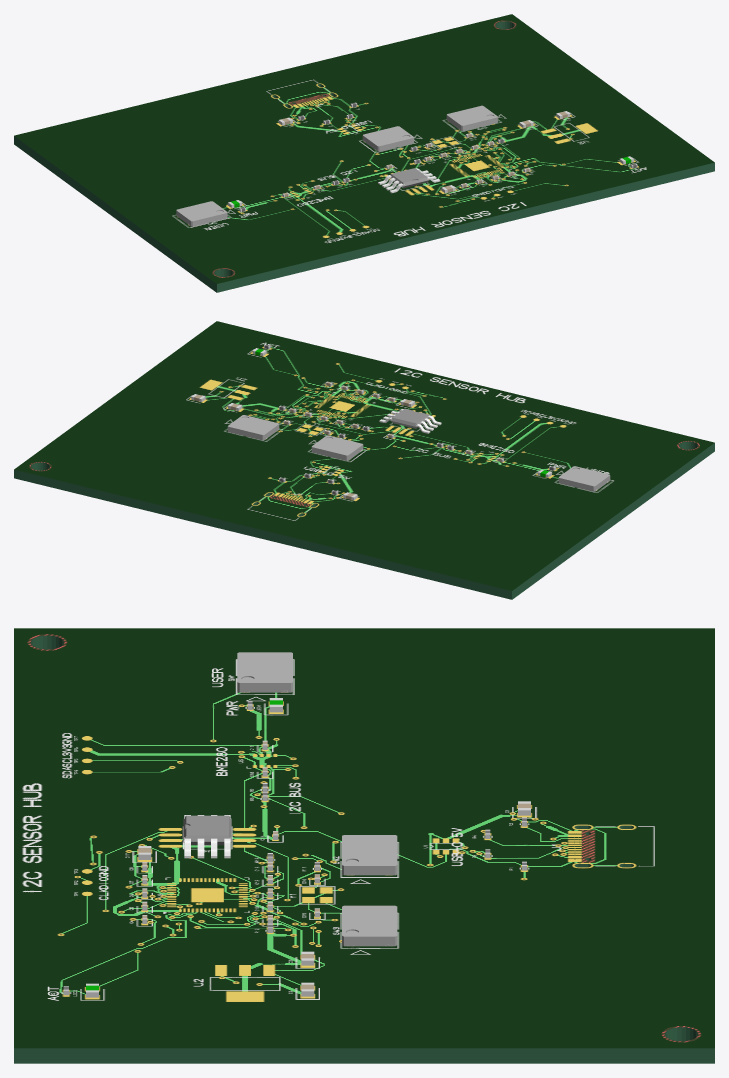
The picture shows the model from 3 angles, top to bottom: view 1: azimuth 30°, elevation 25°; view 2: azimuth 150°, elevation 25°; view 3: azimuth 270°, elevation 25°; orthographic projection. The views are drawn at different scales.
Parts seen in each view (by area): view 1: Box0, SW2, SW3, SW1, U4; view 2: Box0, SW2, SW1, SW3, U4; view 3: Box0, SW3, SW2, SW1, U4.
Boxes of the visible parts, x1,y1,x2,y2 form: Box0: (14,14,714,292); SW2: (362,126,414,151); SW3: (446,105,498,131); SW1: (176,201,227,226); U4: (378,168,440,193); Box0: (14,321,714,599); SW2: (311,435,363,460); SW1: (558,466,610,491); SW3: (227,415,279,440); U4: (379,408,441,433); Box0: (14,628,714,1063); SW3: (342,905,397,946); SW2: (342,835,397,875); SW1: (237,652,292,692); U4: (183,815,231,858).
Bounding box in the file's own units: 95 × 2.88 × 67.
Materials: 10 (2 with a texture image).
